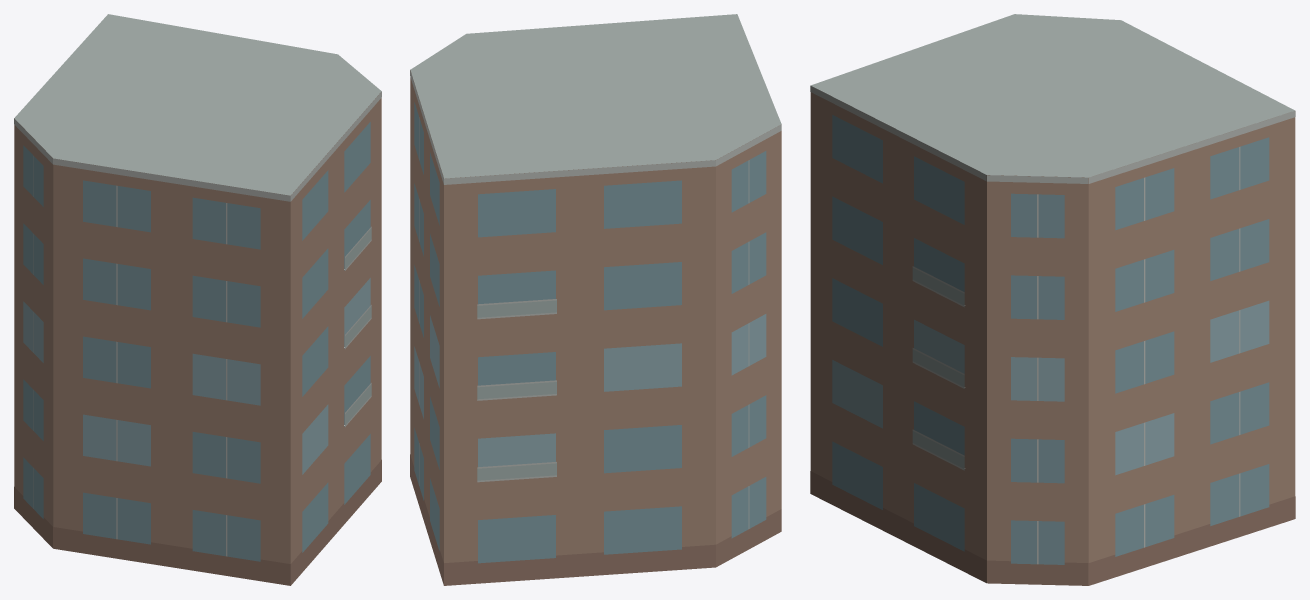
The model's file is survey-upis-32813544.glb.
3 renders of one model, left to right at view 1: azimuth 30°, elevation 25°; view 2: azimuth 150°, elevation 25°; view 3: azimuth 270°, elevation 25°, orthographic. The views are drawn at different scales.
Parts seen in each view (by area): view 1: survey-upis-32813544.tmp; view 2: survey-upis-32813544.tmp; view 3: survey-upis-32813544.tmp.
Boxes of the visible parts, box(x1,y1,x2,y2) form: survey-upis-32813544.tmp: box(14, 14, 381, 585); survey-upis-32813544.tmp: box(410, 14, 781, 585); survey-upis-32813544.tmp: box(810, 14, 1295, 585).
Bounding box in the file's own units: 13.24 × 15.4 × 16.58.
